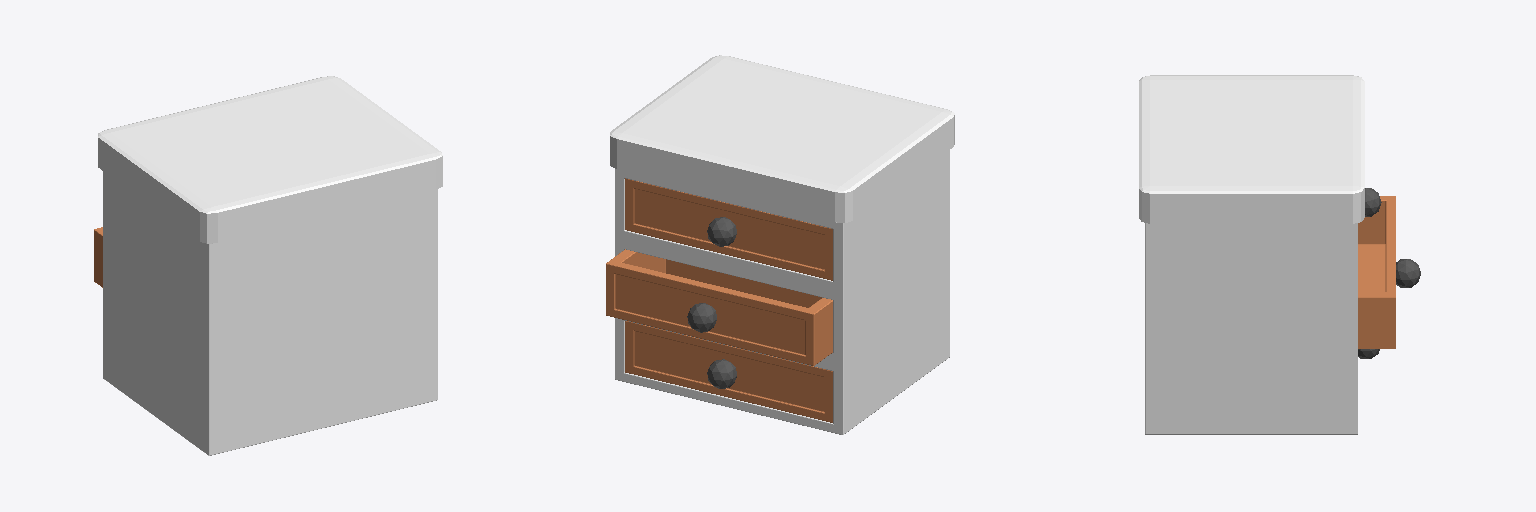
Rendered from Bedside_table.obj.
The picture shows the model from 3 angles: view 1: azimuth 30°, elevation 25°; view 2: azimuth 150°, elevation 25°; view 3: azimuth 270°, elevation 25°; orthographic projection.
Visible parts, largest first — view 1: Bedside_table_Cube.037; view 2: Bedside_table_Cube.037; view 3: Bedside_table_Cube.037.
Boxes of the visible parts, <box> form: Bedside_table_Cube.037: <box>94,76,442,455</box>; Bedside_table_Cube.037: <box>606,55,954,434</box>; Bedside_table_Cube.037: <box>1139,75,1420,434</box>.
Size of the model in its own units: 1.17 by 1.14 by 1.18.